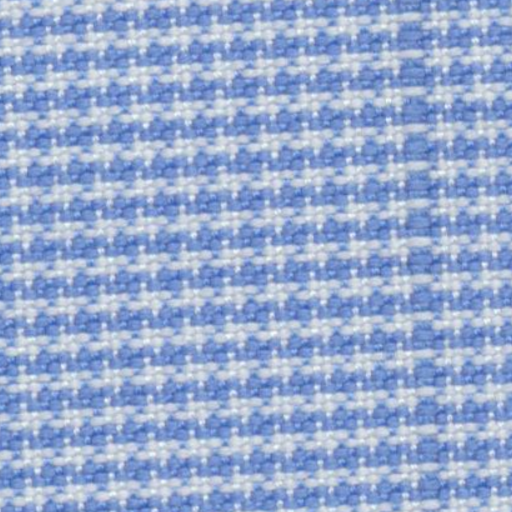TuoSha: (368, 14, 484, 498)
